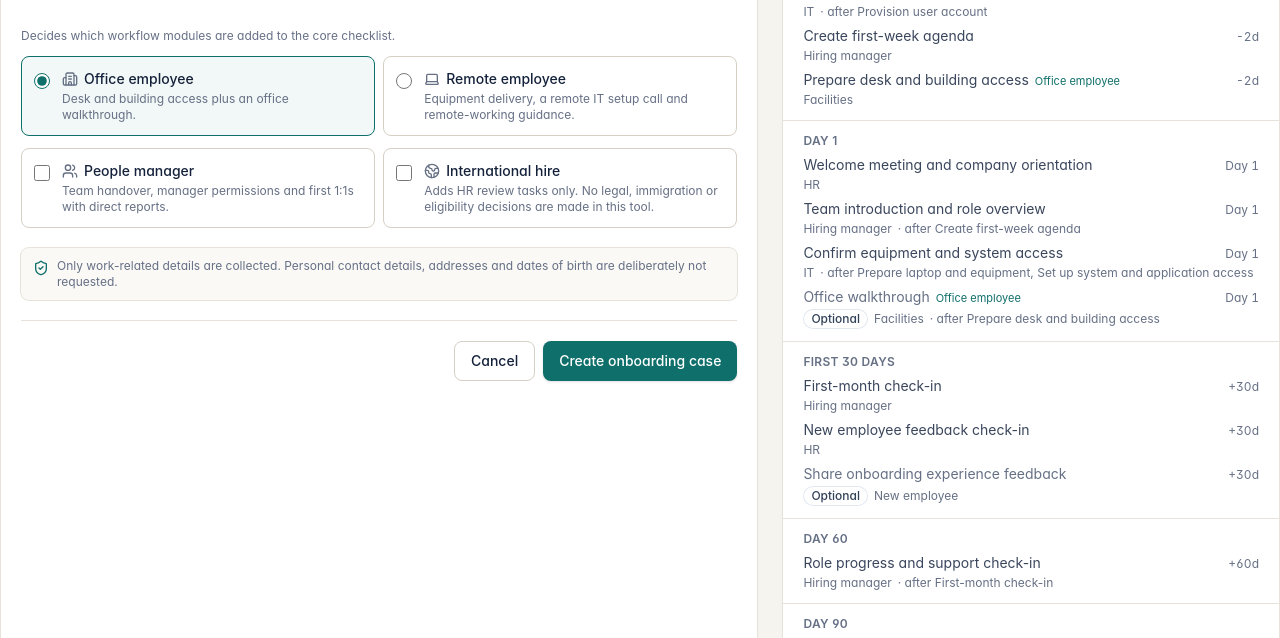
it: NewOnboardingForm › shows accessible validation errors and does not create a case when empty
(page scrolled)
Click the button "Create onboarding case": (640,361) [543, 341, 737, 381]
(page scrolled)
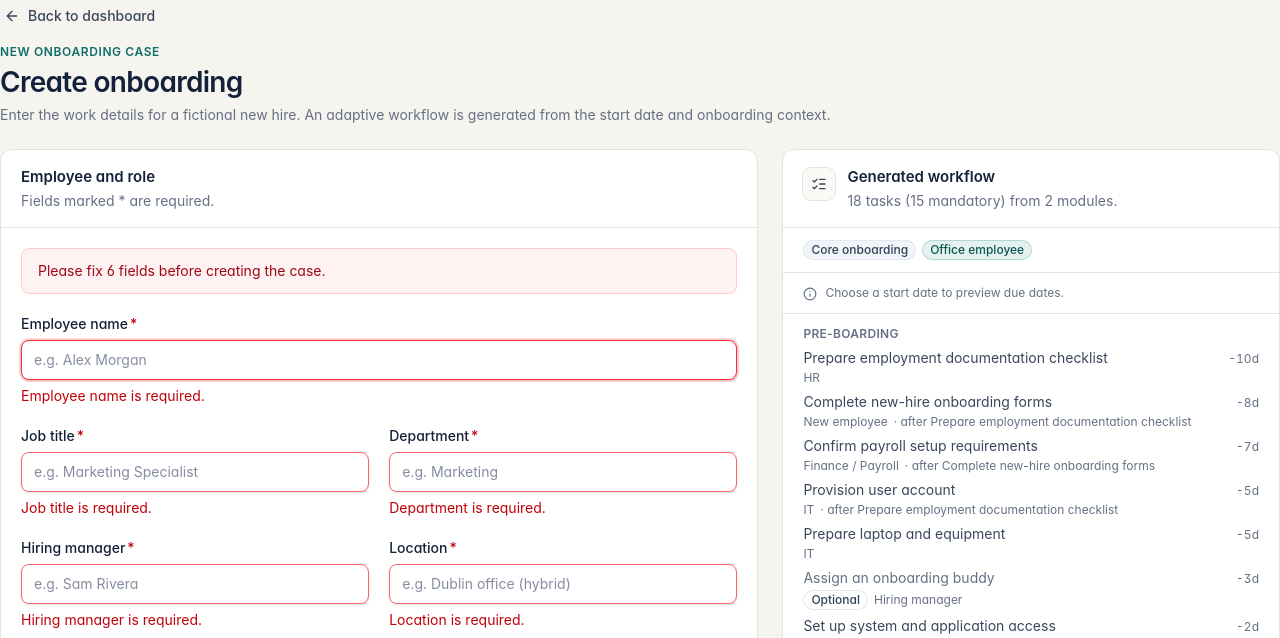
Expected: the message shows "Please fix 6 fields", [21, 248, 737, 294]
